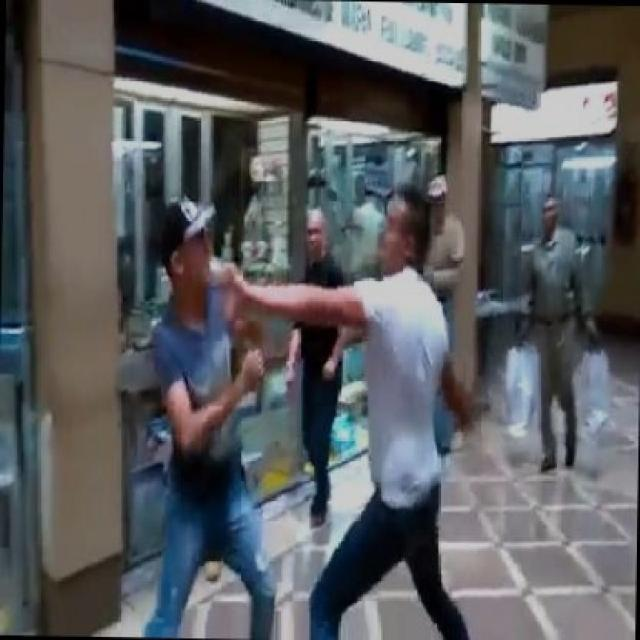fight: (117, 182, 471, 638)
non-fight: (496, 182, 616, 482), (263, 196, 366, 530), (400, 162, 503, 463)
